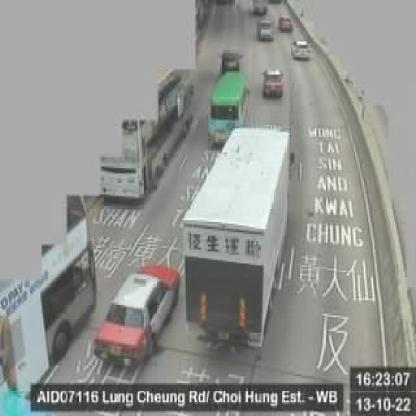Bus: (2, 197, 98, 393), (99, 64, 194, 196)
Car: (94, 267, 179, 369), (263, 66, 284, 98), (221, 49, 242, 74), (292, 40, 310, 60), (258, 20, 272, 41), (279, 16, 292, 34)
Minibus: (209, 72, 249, 142)
Truck: (179, 129, 291, 356)
